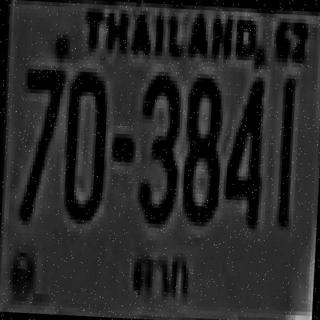N00: (61, 69, 106, 219)
N01: (276, 76, 295, 225)
N03: (137, 71, 180, 221)
N04: (222, 76, 265, 225)
N07: (18, 65, 64, 219), (20, 65, 64, 175)
N08: (180, 74, 222, 219)
P69: (125, 245, 192, 303)
